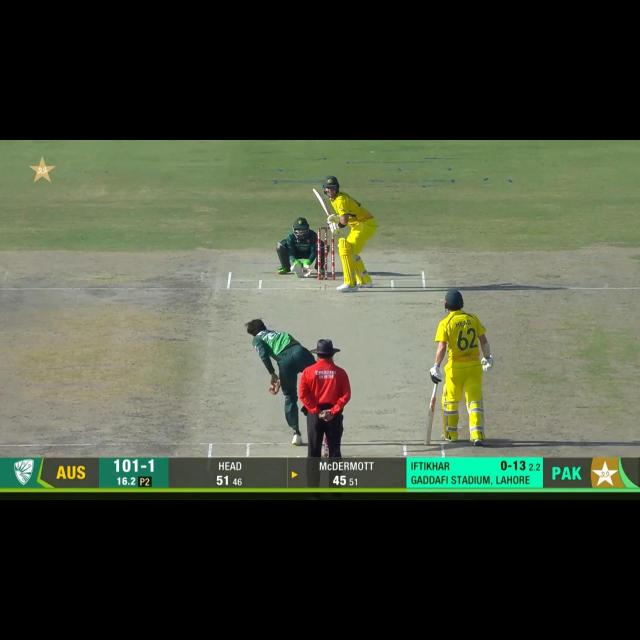bat: (424, 397, 436, 445), (311, 188, 331, 215)
toe: (422, 438, 433, 446), (310, 188, 320, 195)
